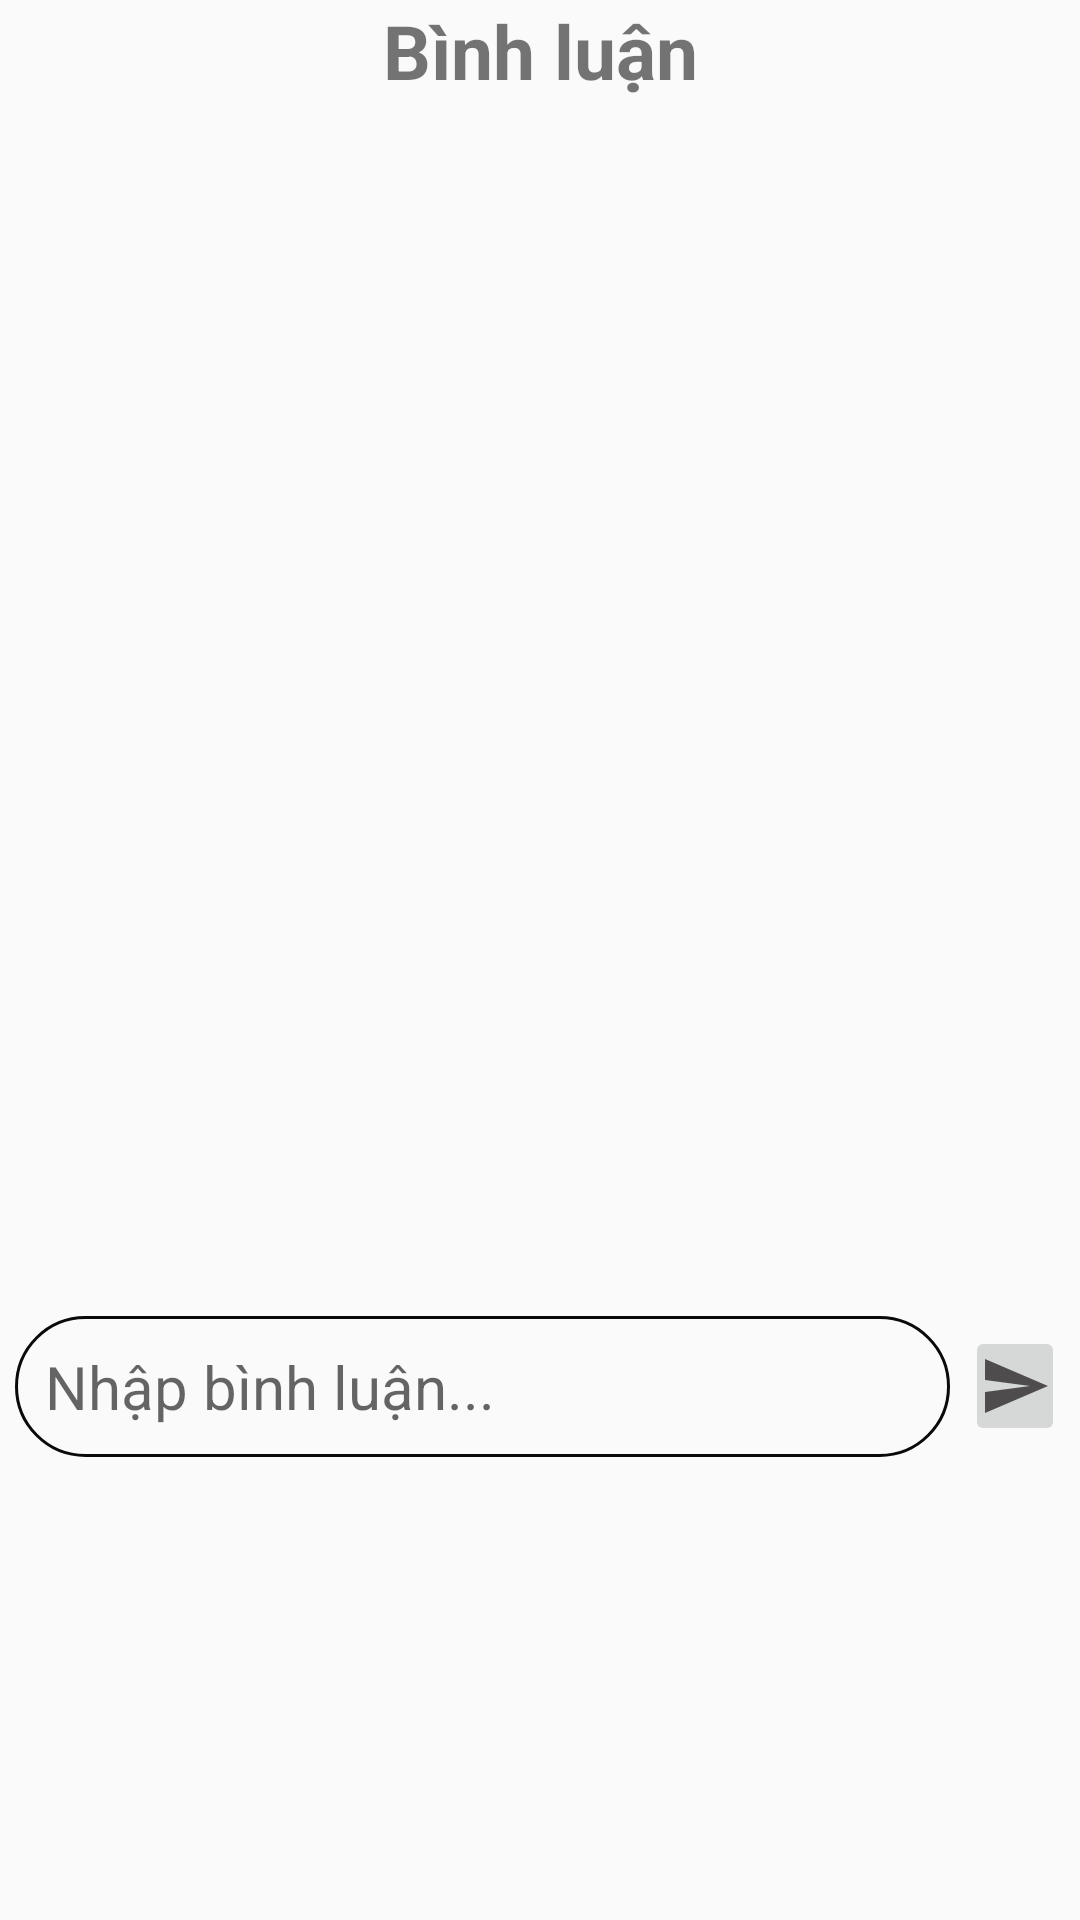

Where to tap for icons on this 1080*1920 app screen, as [x,y]:
send: [1015,1386]
